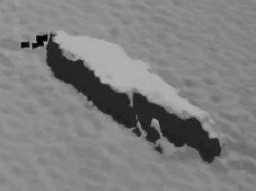ship: (50, 30, 226, 154)
